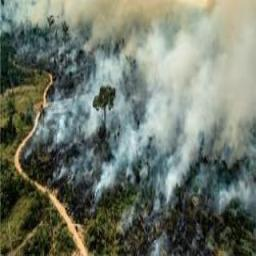Heavy smoke: (32, 2, 255, 252)
